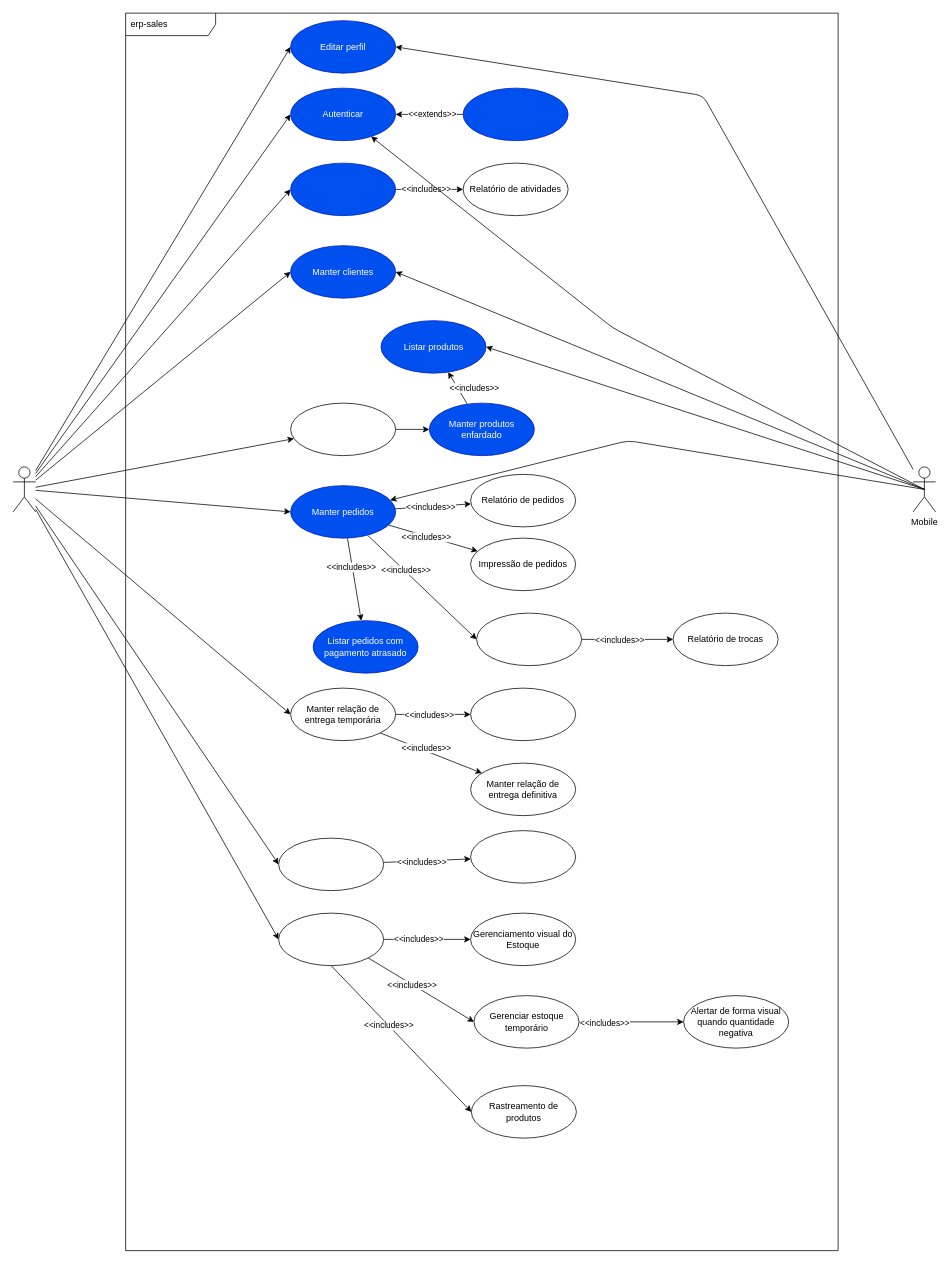
Image size: 950x1264. Some labels were removed from this diagram. The centre of each missing label's shape, as x and y in pixels:
"Calcular capacidade de produção por mês" goes at pixel 523 856.
"Emitir relação de carga" goes at pixel 523 714.
"Manter Estoque" goes at pixel 331 939.
"Manter PMP" goes at pixel 331 864.
"Manter produtos Unitários" goes at pixel 343 429.
"Manter Trocas" goes at pixel 529 639.
"Manter usuários" goes at pixel 343 189.
"Redefinir senha" goes at pixel 515 114.
"Web" goes at pixel 24 489.
